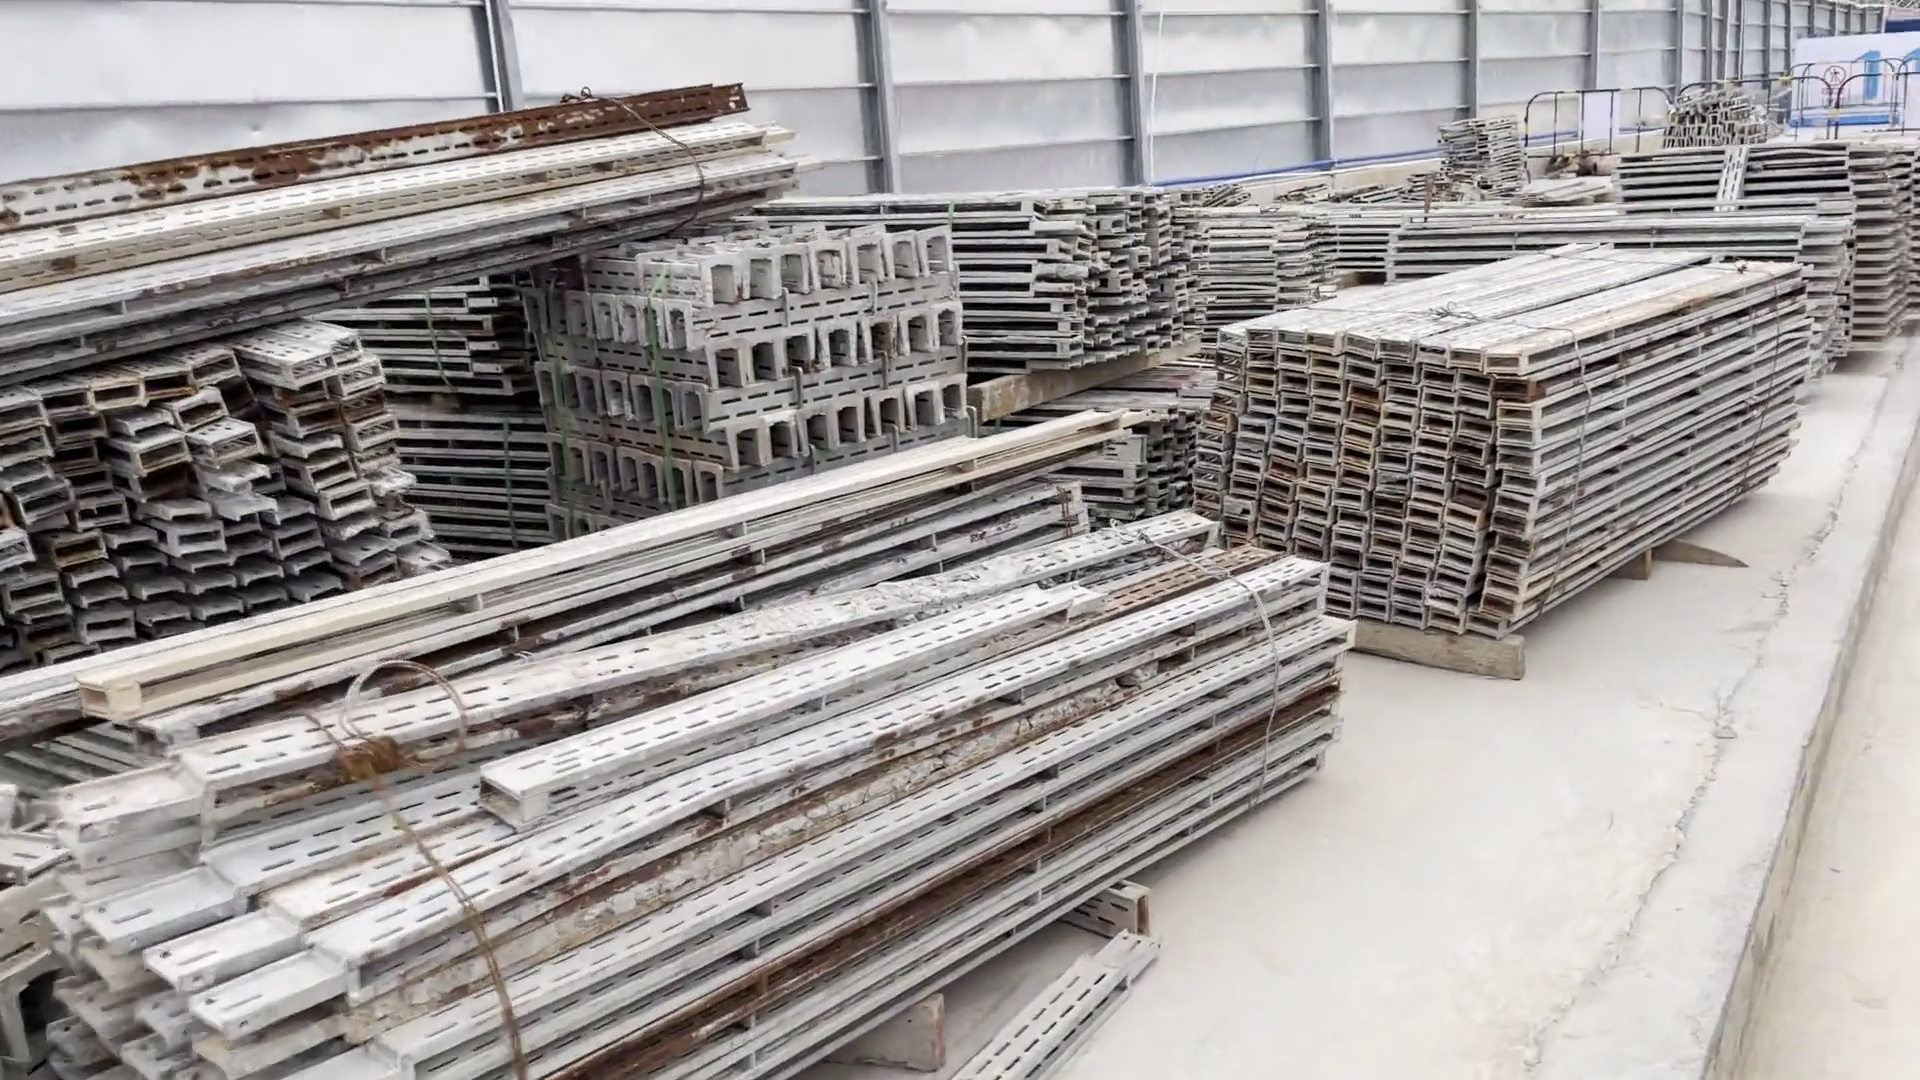fence: (1520, 69, 1920, 154)
